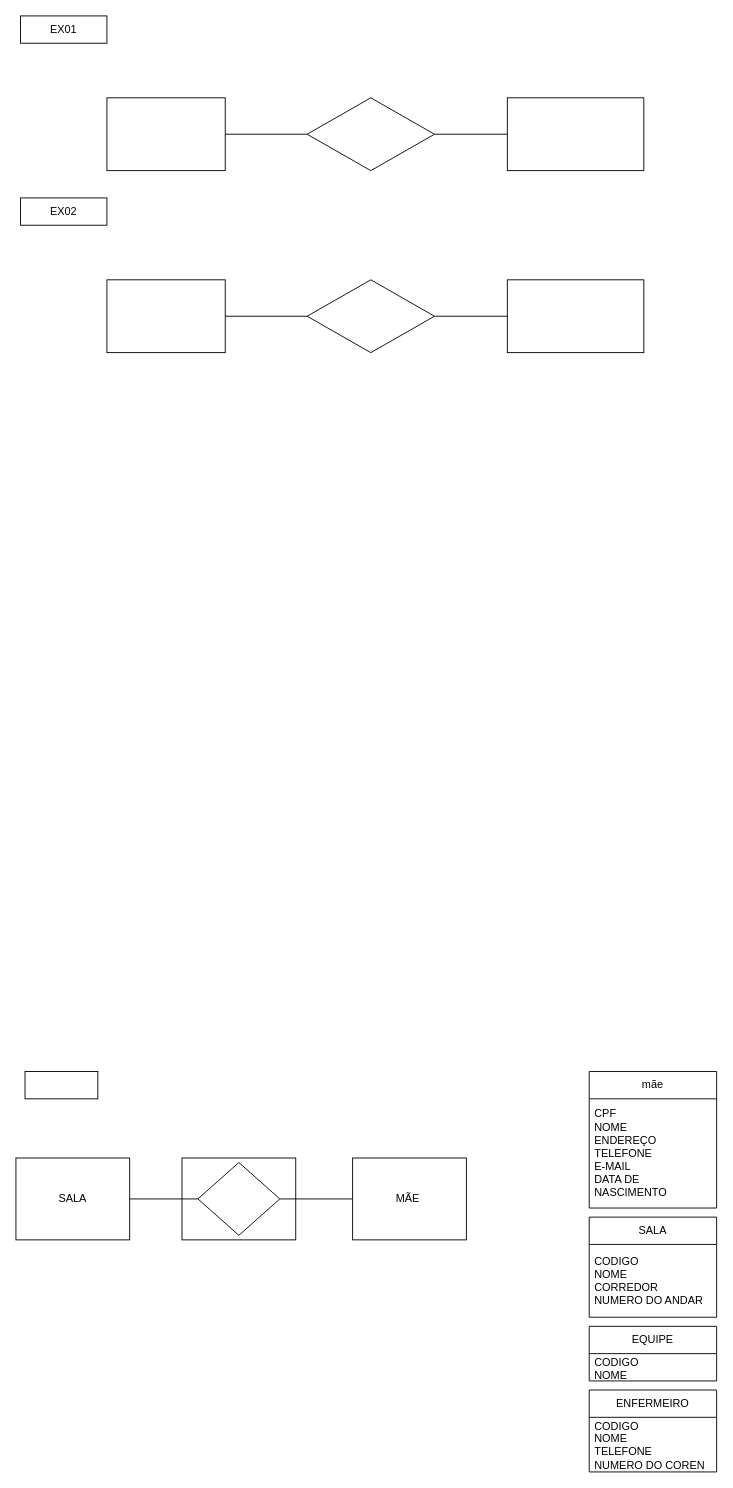
The diagram is 733 pixels wide and 1488 high, and some of its shapes have lost their labels. Here are the shapes that lost their labels. From the top down, the centre of each, then its label:
At (x=61, y=1085): "EX08".
At (x=238, y=1198): "PARTOS".
